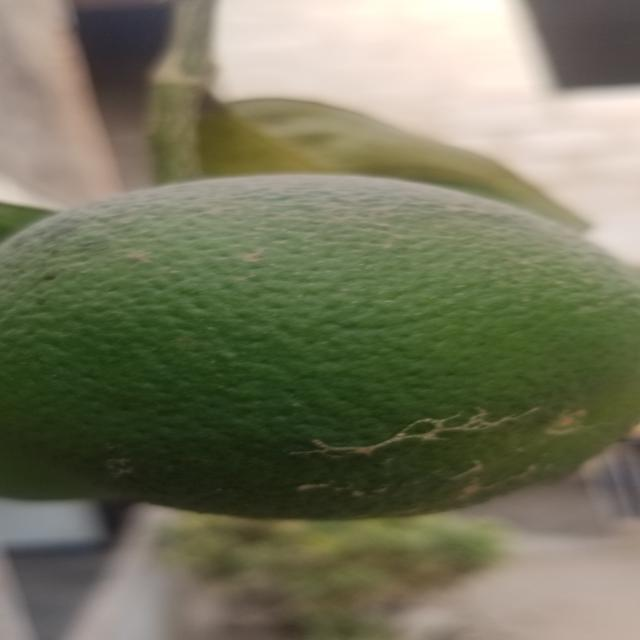Unripe: (3, 176, 640, 518)
